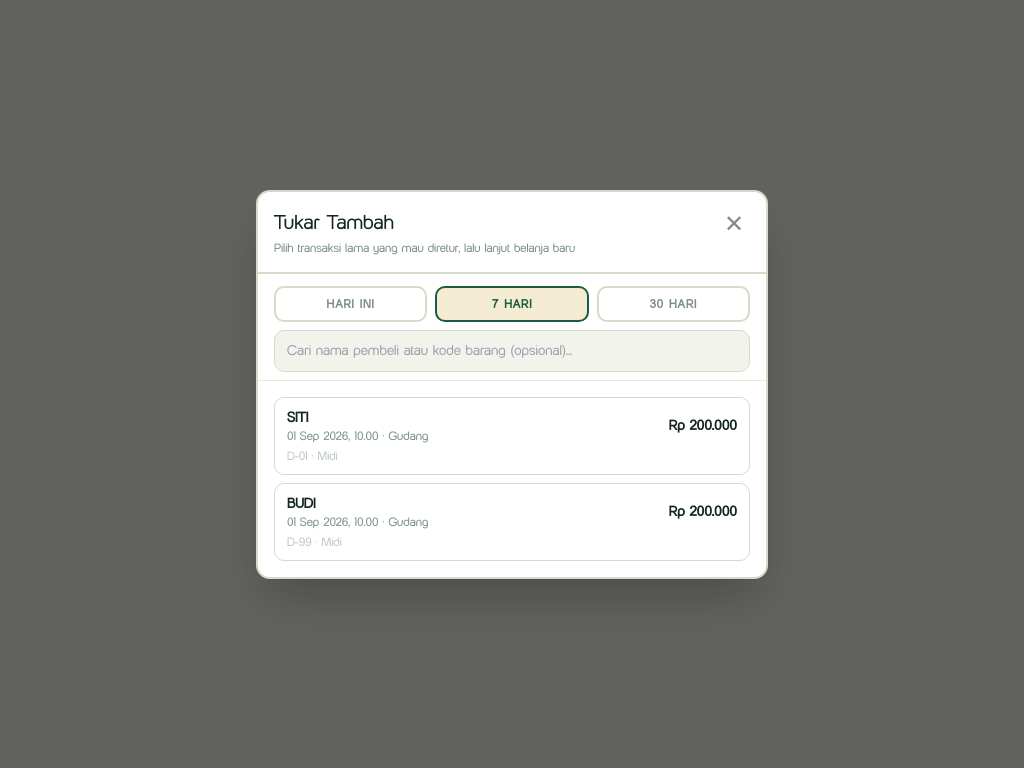
it: TukarTambahModal › search memfilter by kode barang
Type "D-99" into the field with placeholder "Cari nama pembeli atau kode barang (opsional)..." at (512, 350), box [274,330,750,372]
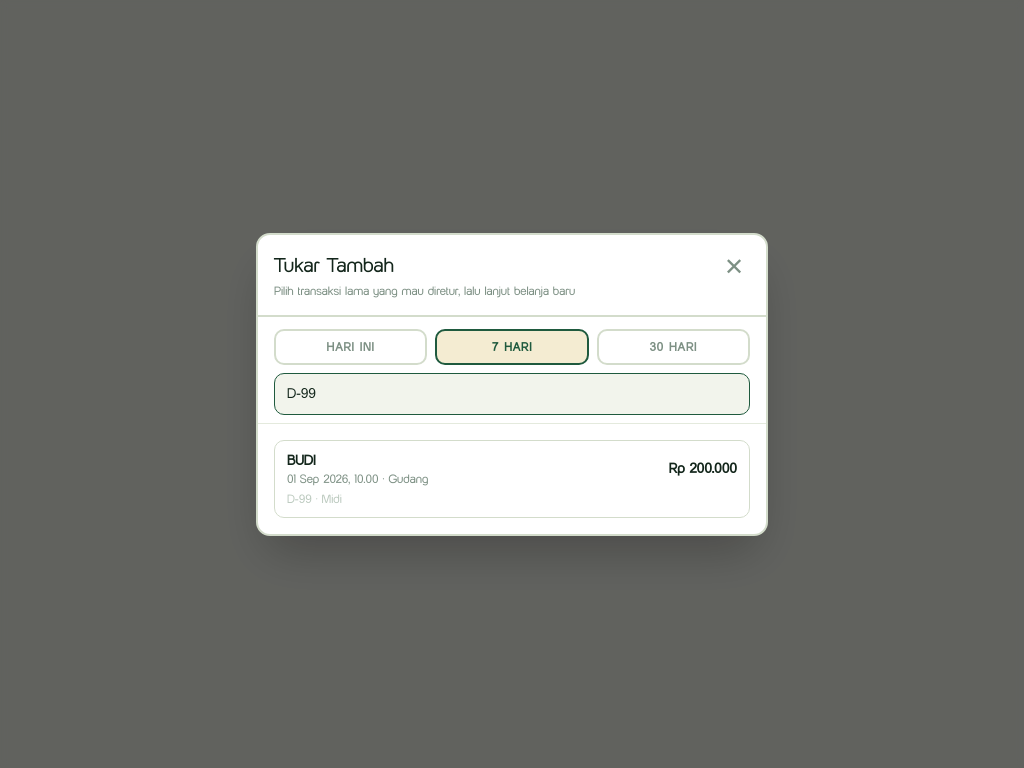
Expected: the text "BUDI" is shown, [287,452,316,468]
Now the button "SITI" is gone
